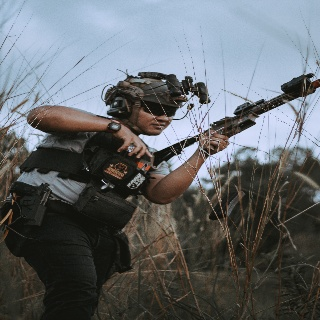rifle: (135, 72, 319, 166)
